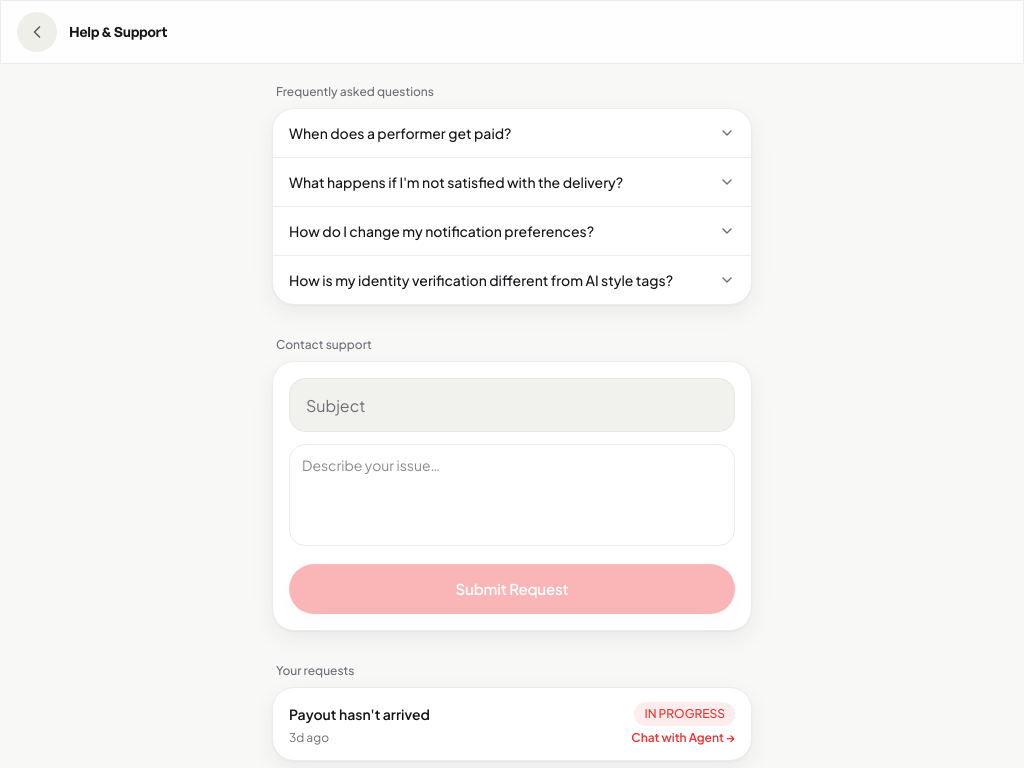
HelpSupport › mock mode: submitting a ticket appends it locally
Expected: the text "Payout hasn't arrived" is shown, [289,704,430,724]
Type "Can't upload my reel" into the field with placeholder "Subject" at (512, 405), box [289,378,735,432]
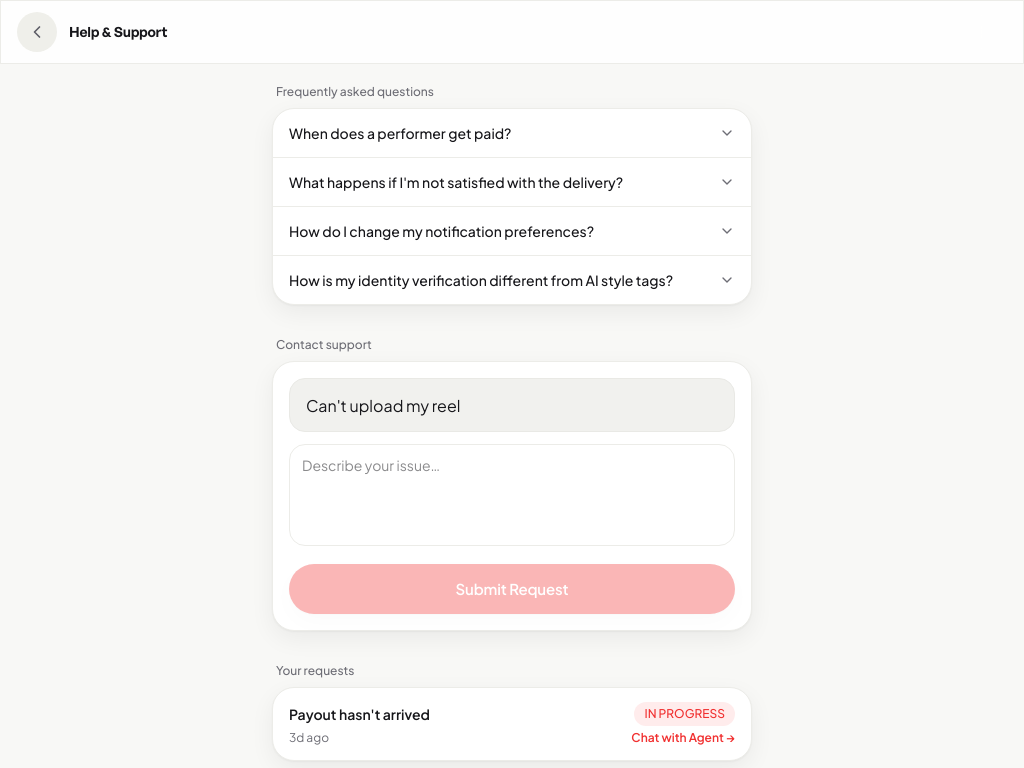
Type "Upload keeps failing" into the text box with placeholder "Describe your issue…" at (512, 495), box [289,444,735,546]
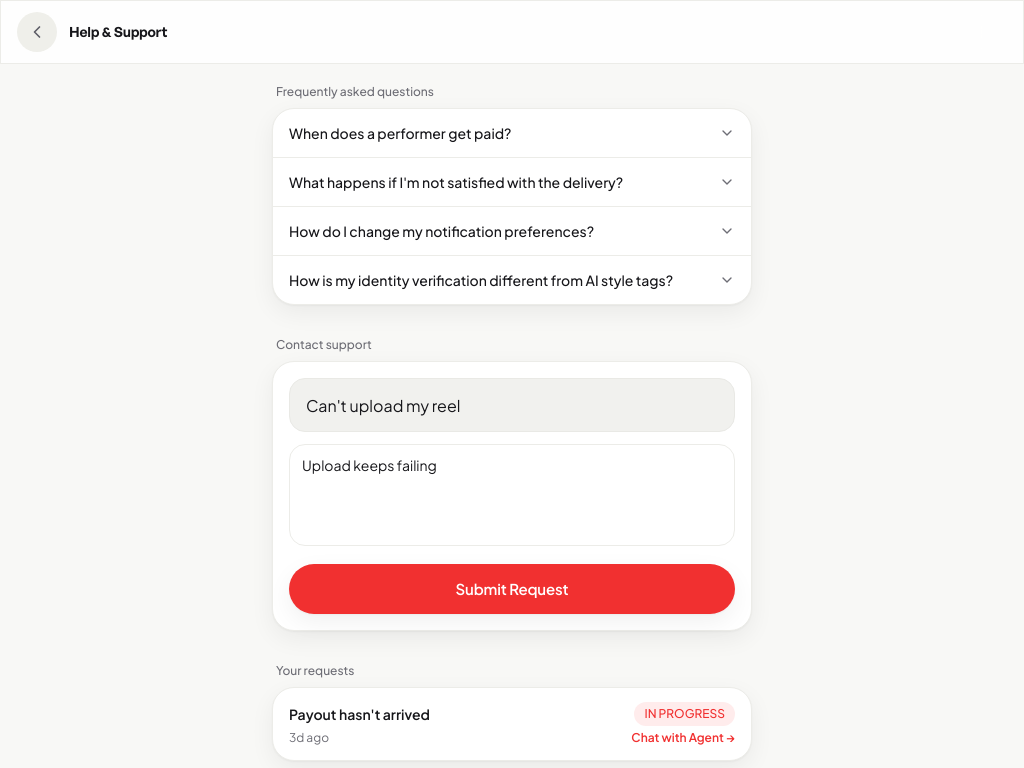
Click the button "Submit Request" at (512, 589), box [289,564,735,614]
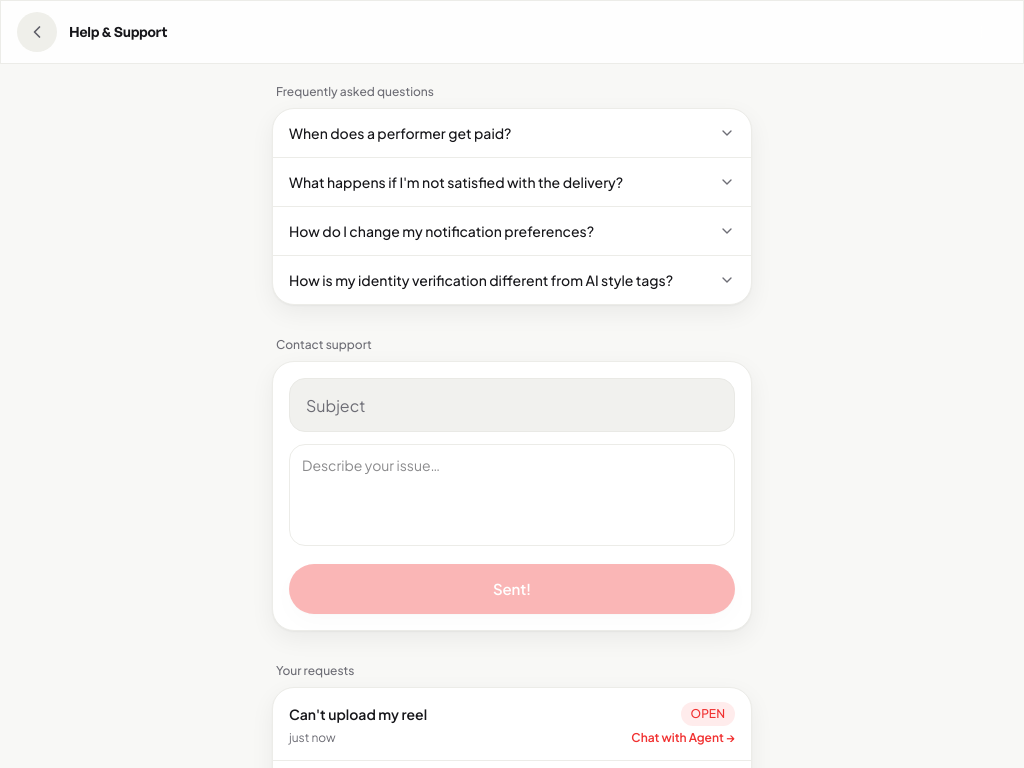
Result: the text "Can't upload my reel" is shown at [289,704,427,724]
